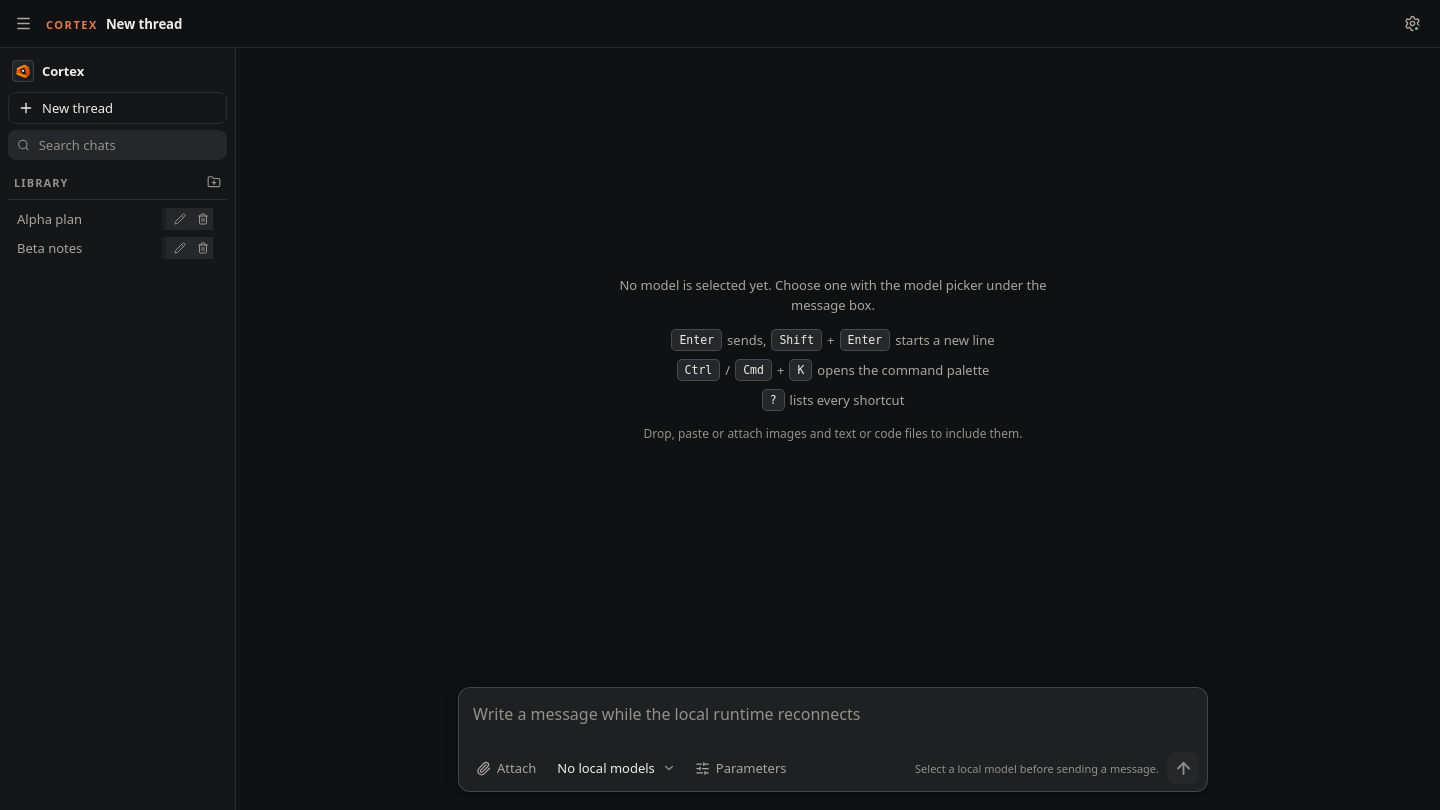
Test: App chat deletion with Undo › brings the chat back and says so when the delete fails at the end of the window
Click the button named "Delete Alpha plan": (202, 219) [191,208,213,230]
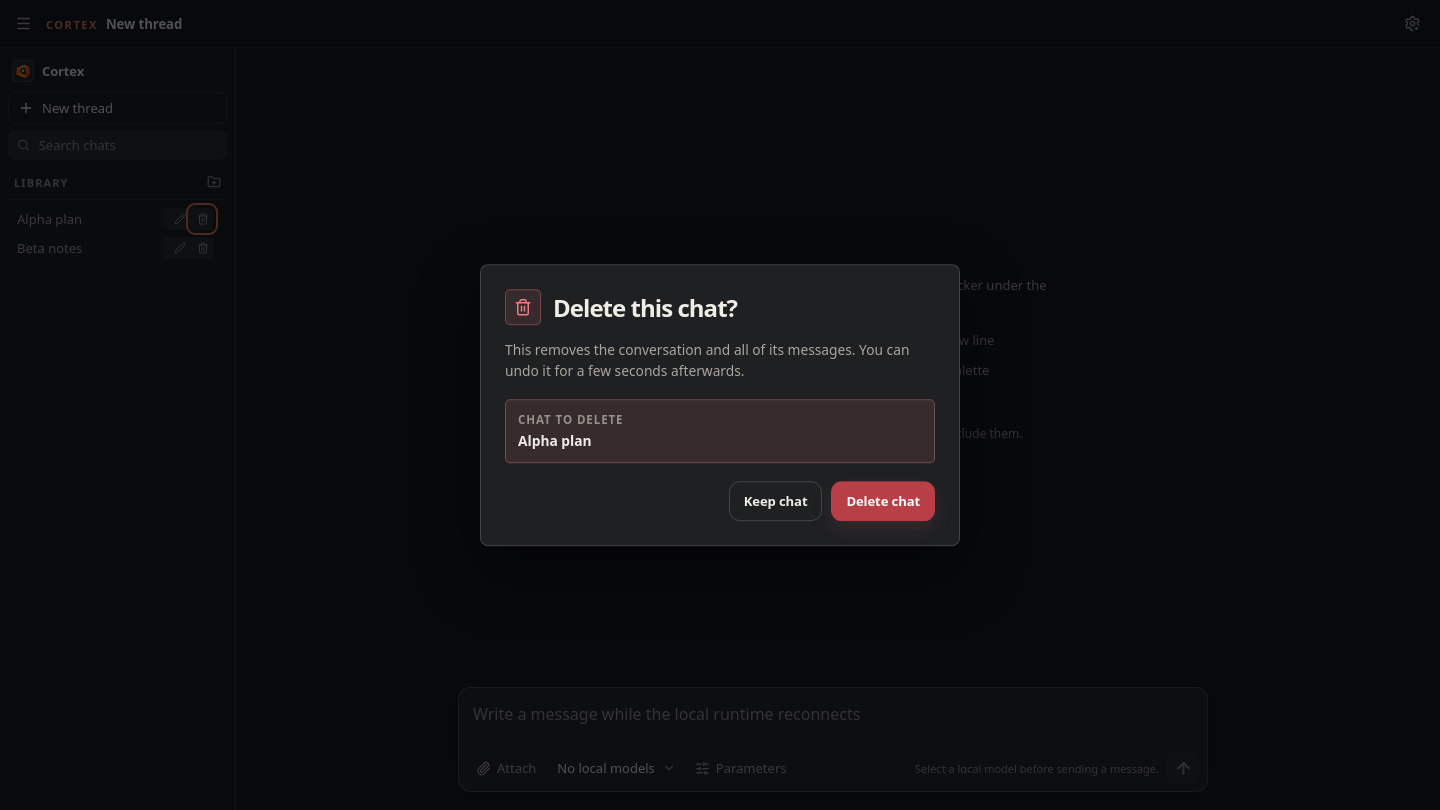
Click the button "Delete chat": (883, 501) [831,481,935,521]
Wait 6050 ms
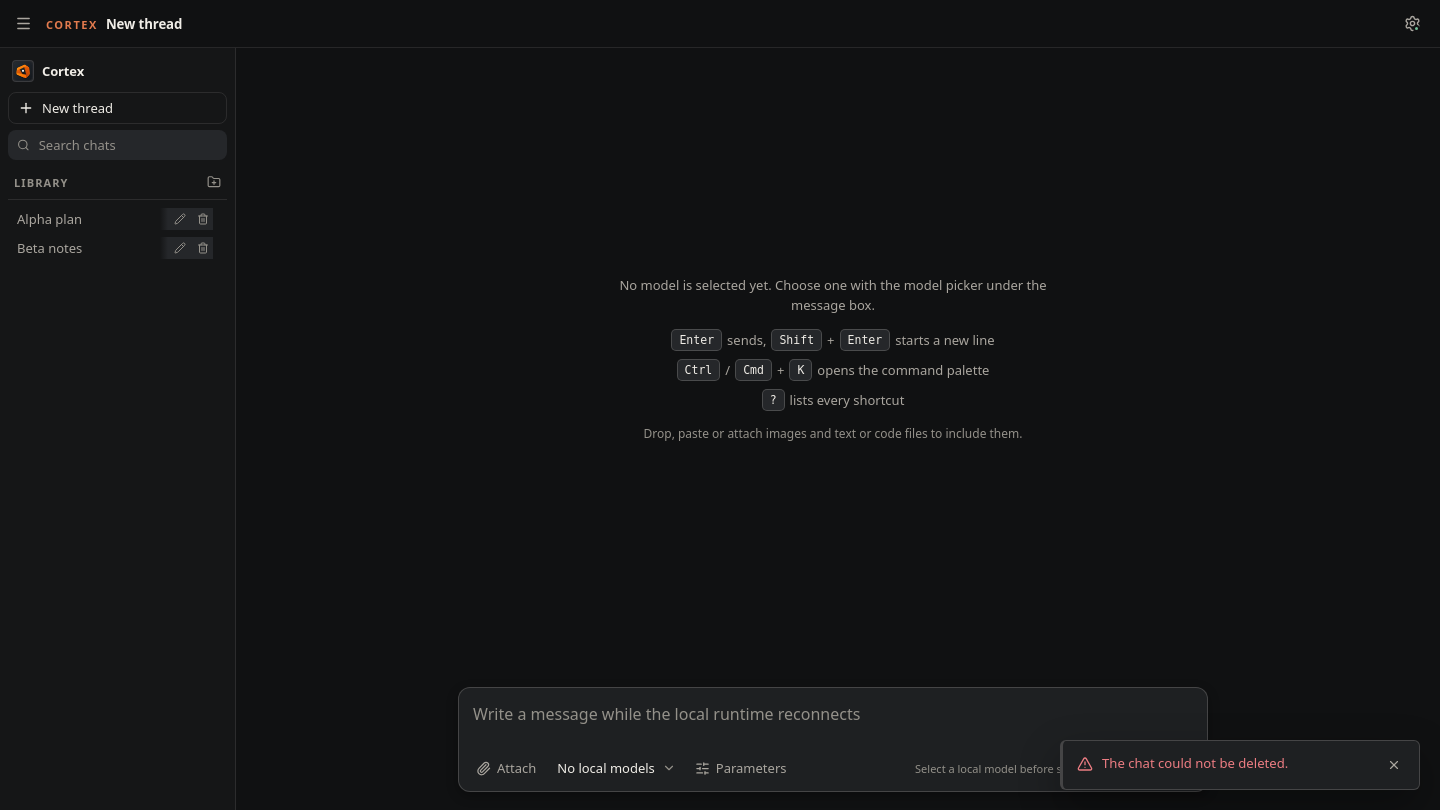
Expected: the button named "Delete Alpha plan" is shown, [191,208,213,230]
Result: the message "The chat could not be deleted." is shown at [1060,740,1420,790]
